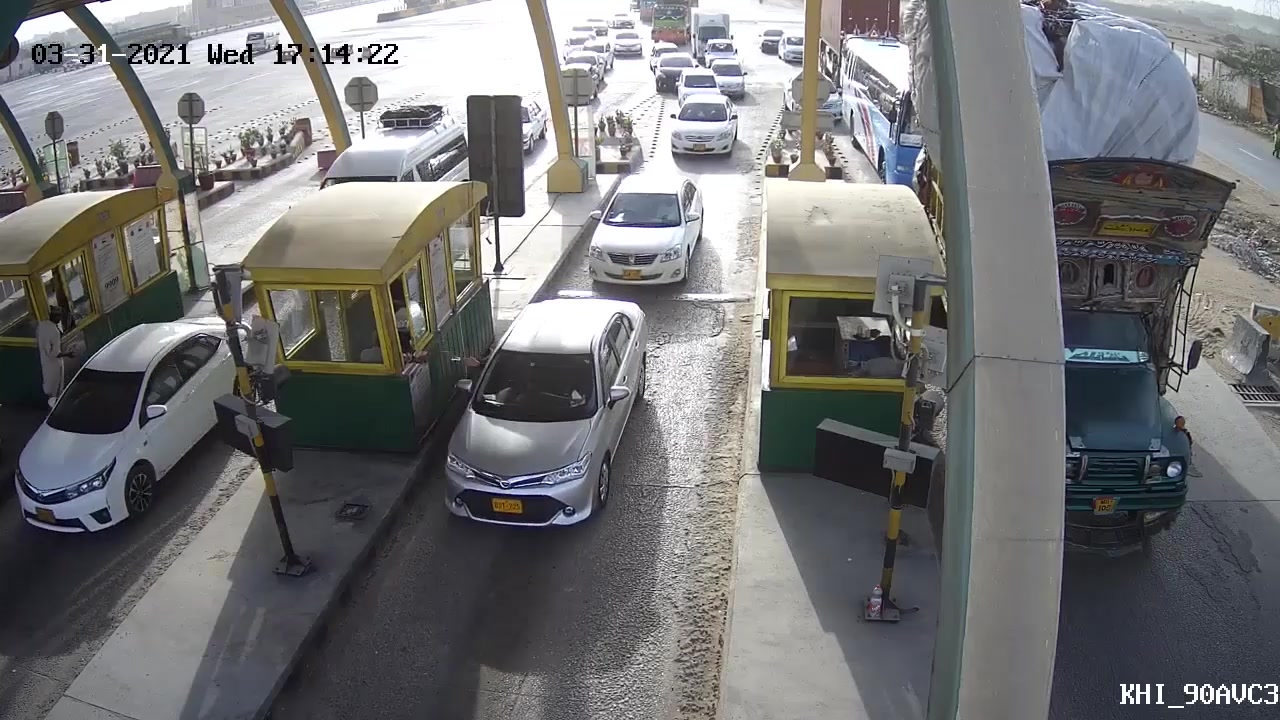F1: (427, 296, 652, 533), (585, 171, 707, 300)
